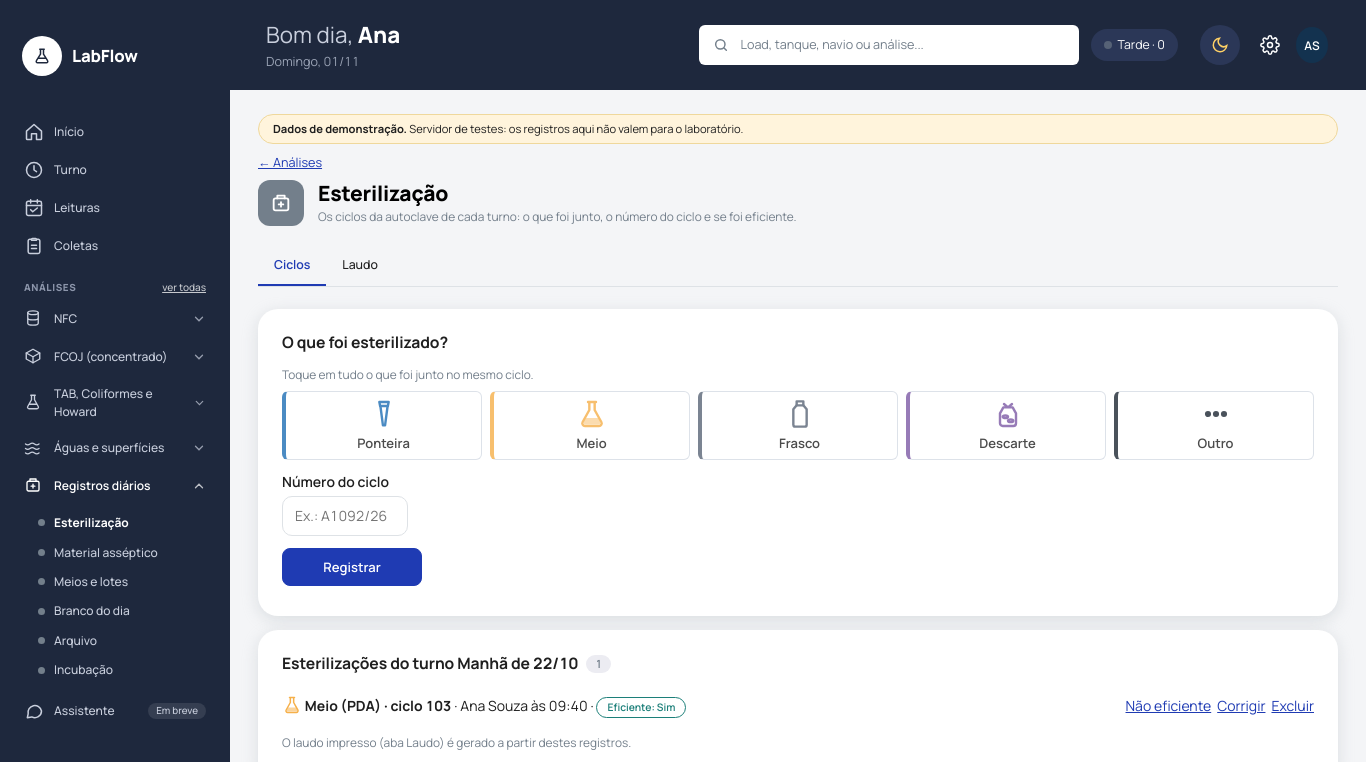
Esterilização (APP-026) › sem escolher o tipo, avisa e não envia
Click the button "Registrar" at [352, 568], box top-left (282, 548), bottom-right (422, 586)
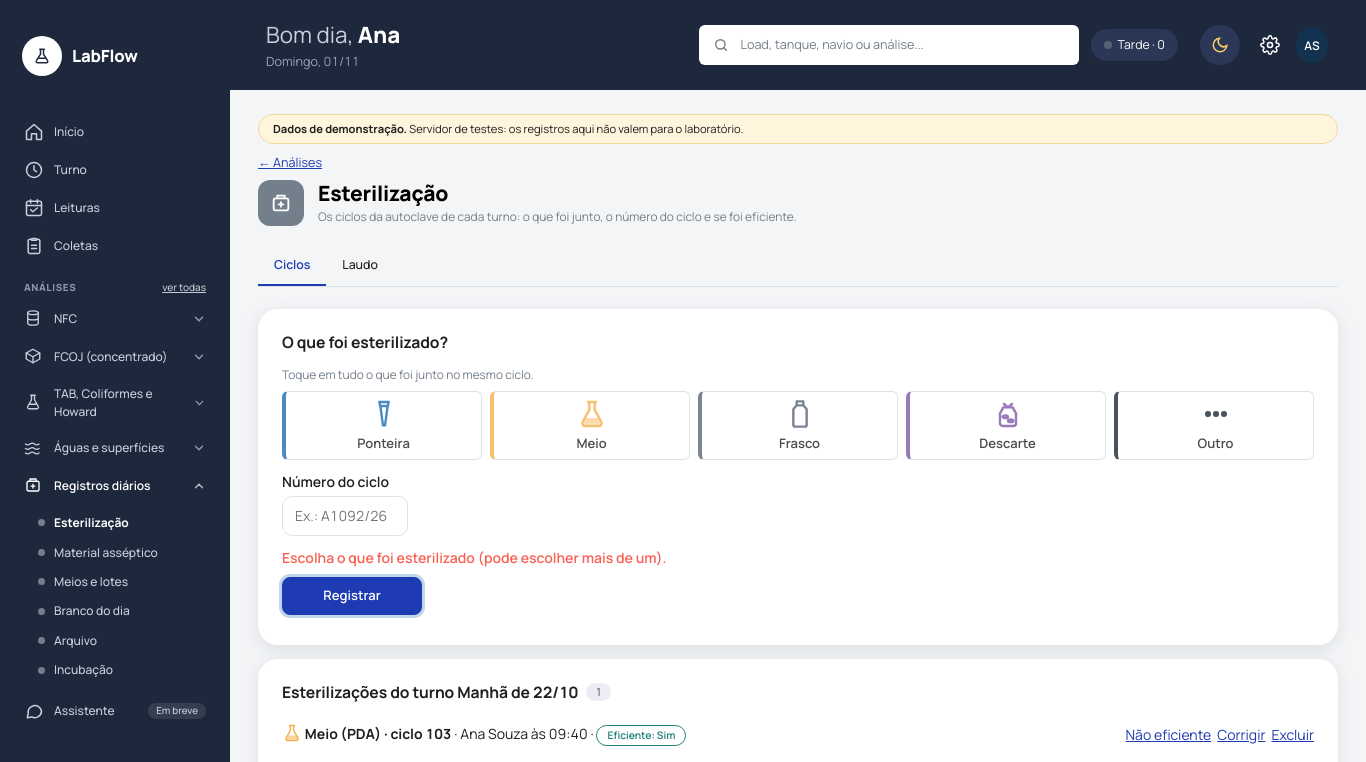
Now the message shows "Escolha o que foi esterilizado", box top-left (282, 548), bottom-right (666, 568)
